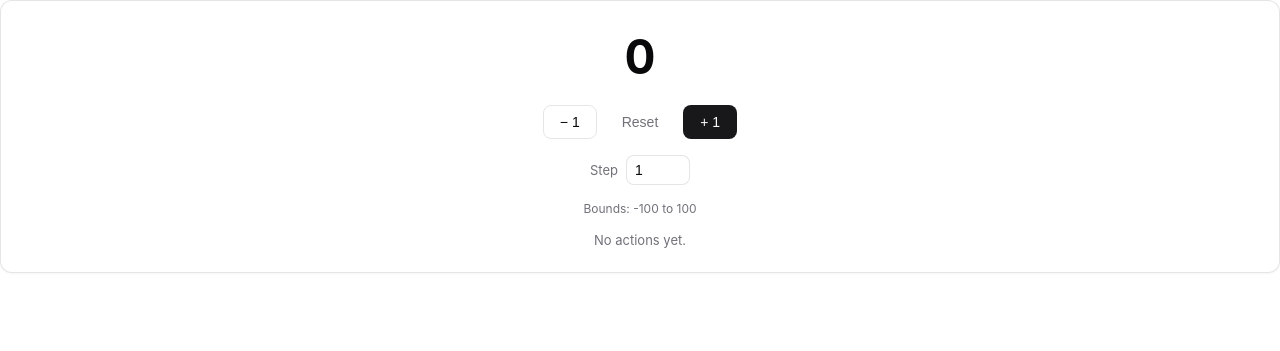
Test: resets the count back to zero
Click the button "+ 1" at (710, 122), box top-left (683, 105), bottom-right (737, 139)
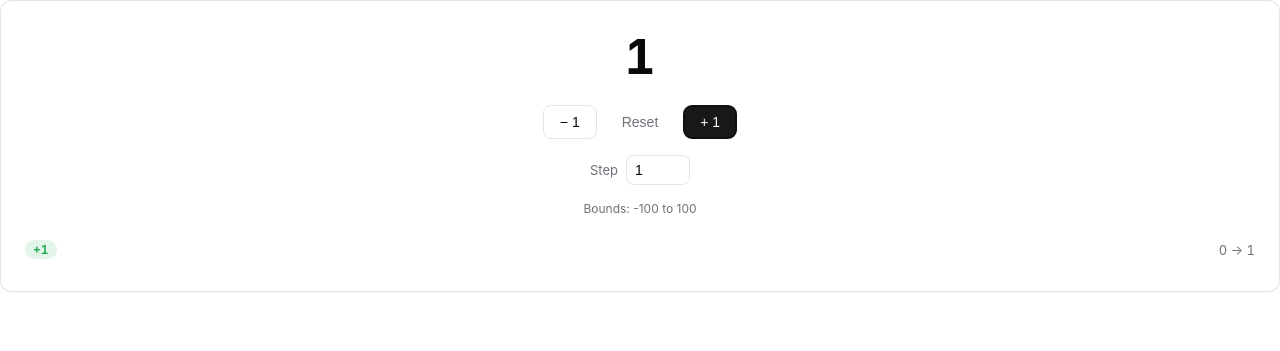
Click the button "Reset" at (640, 122), box top-left (605, 105), bottom-right (675, 139)
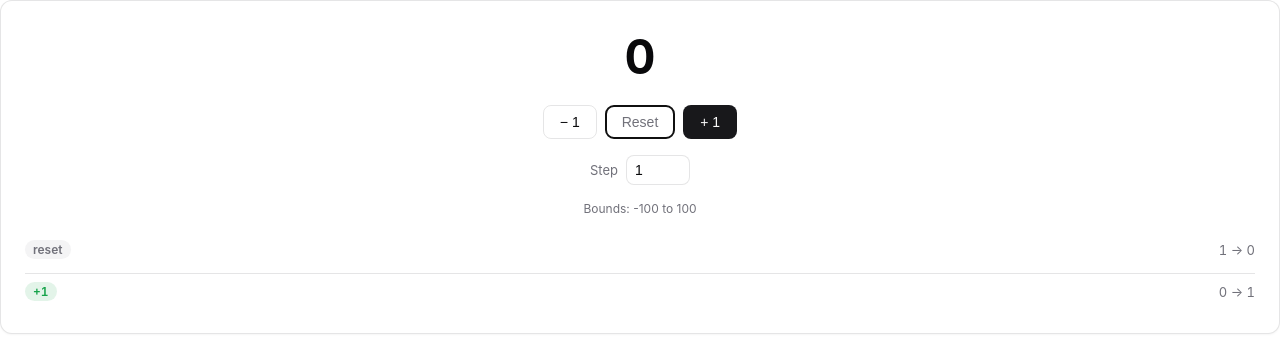
Expected: the text with test id "counter-value" reads "0", top-left (624, 27), bottom-right (656, 86)
